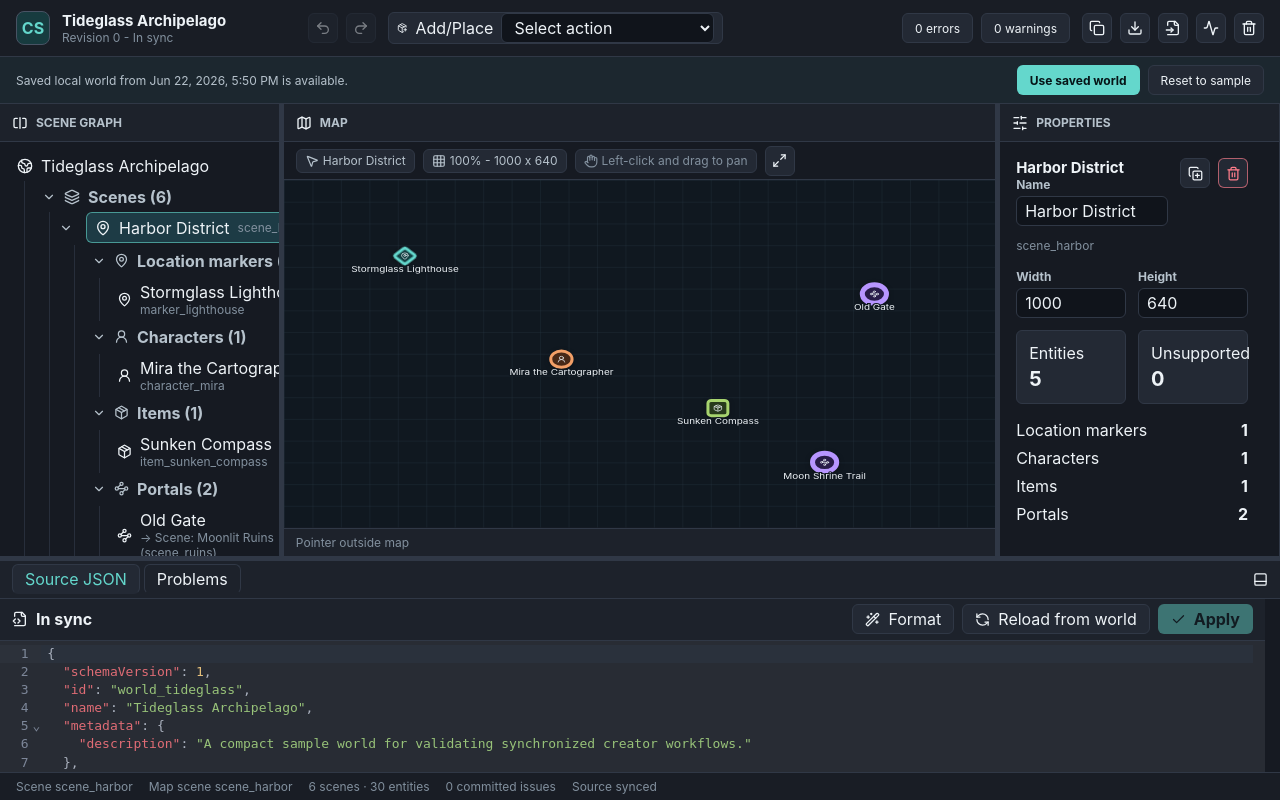
Test: rendered surface equivalence classes › requires confirmation before resetting local recovery data to the sample world
Expected: the text "Saved local world from Jun 22, 2026, 5:50 PM is available." is shown, x1=16 y1=72 x2=348 y2=88
Click the button "Reset to sample".
click(1206, 80)  # box x1=1148 y1=65 x2=1264 y2=95
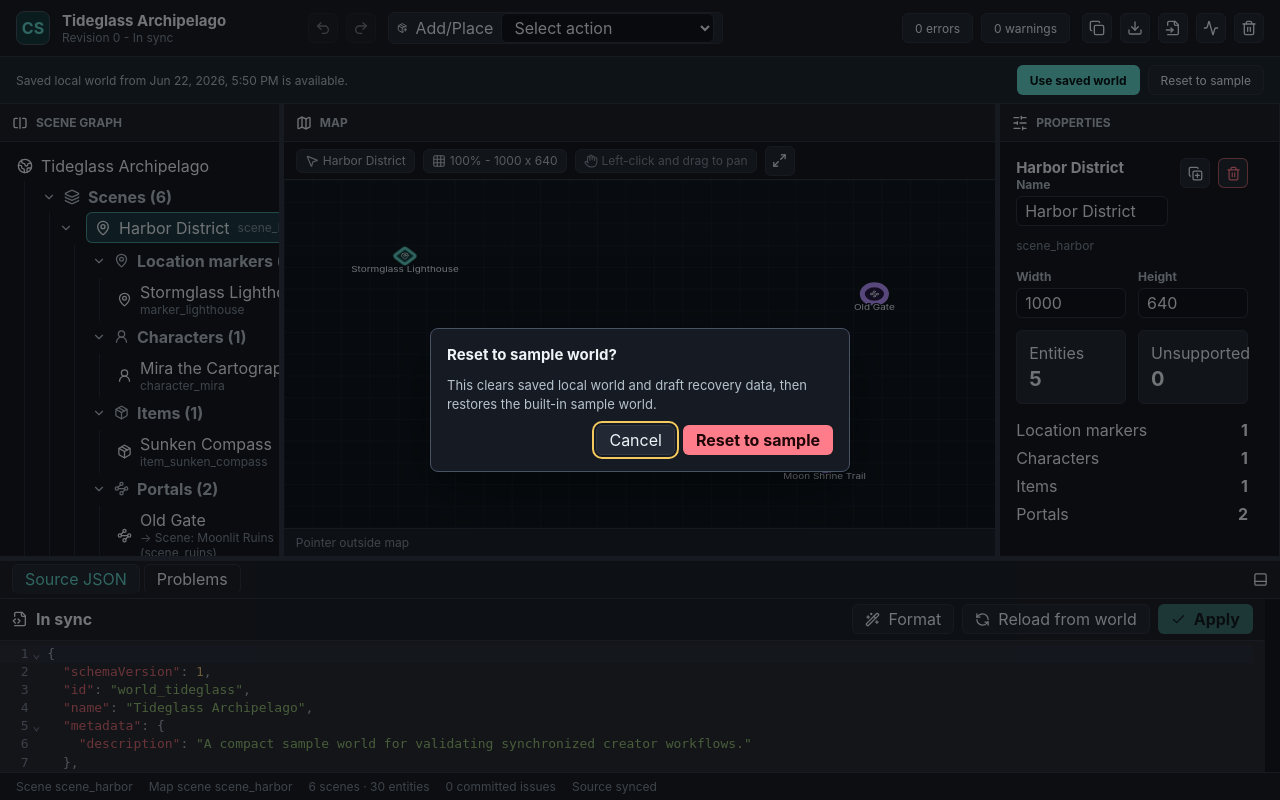
Click the button "Cancel".
click(636, 440)  # box x1=596 y1=425 x2=675 y2=455
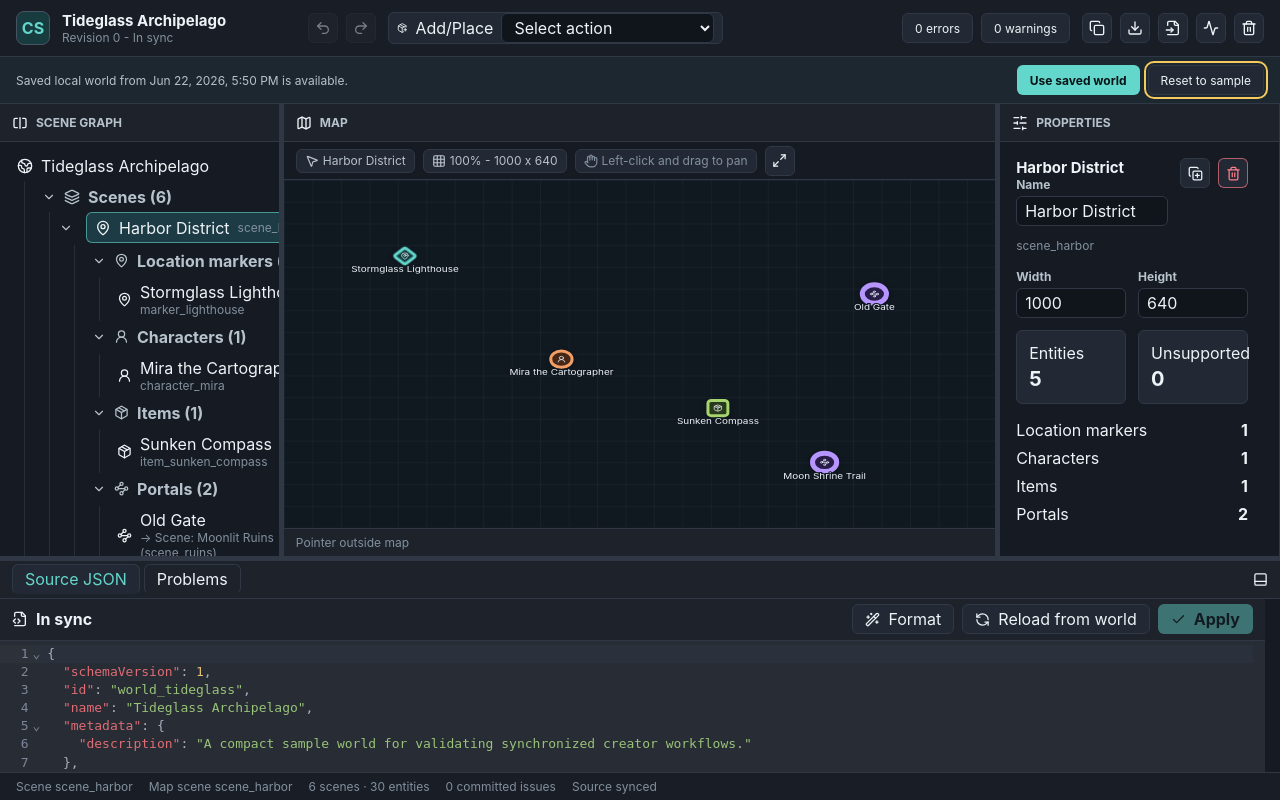
Expected: the text "Saved local world from Jun 22, 2026, 5:50 PM is available." is shown, x1=16 y1=72 x2=348 y2=88
Click the button "Reset to sample".
click(1206, 80)  # box x1=1148 y1=65 x2=1264 y2=95
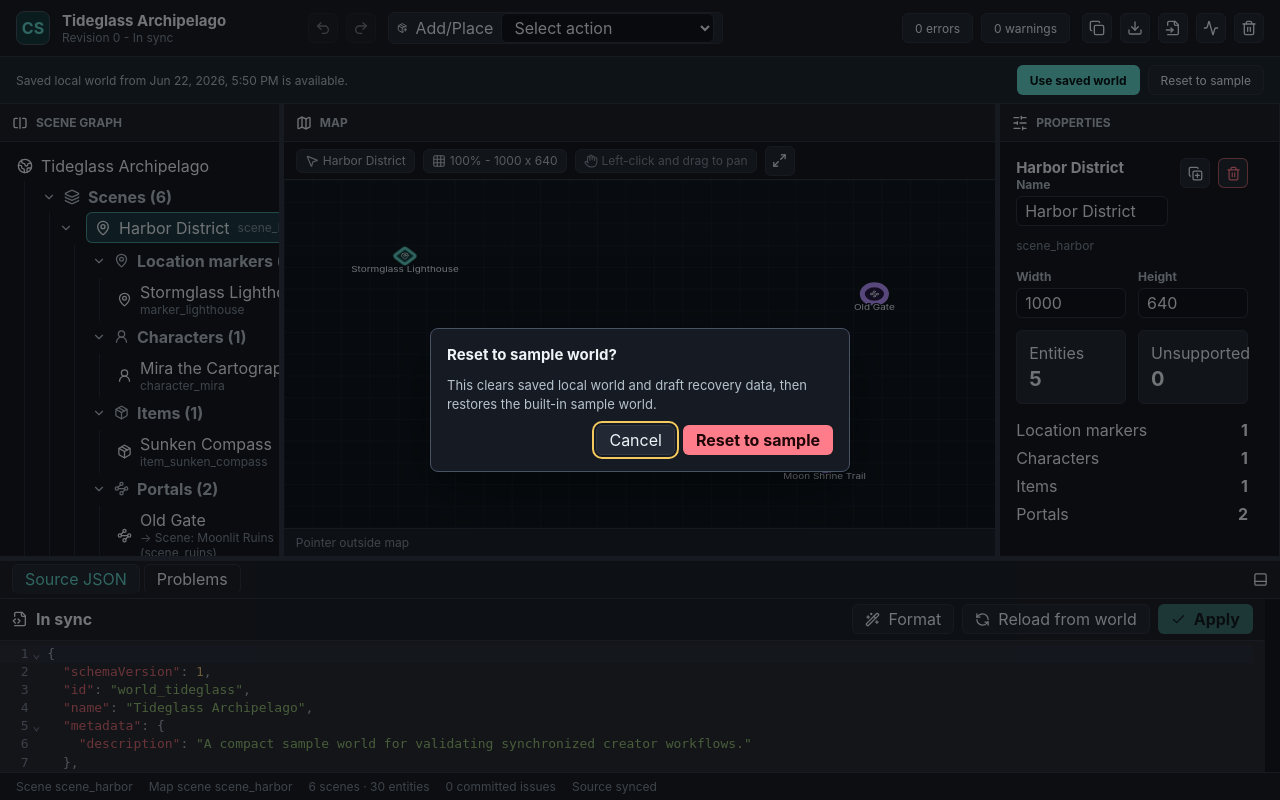
Click the button "Reset to sample".
click(758, 440)  # box x1=683 y1=425 x2=833 y2=455
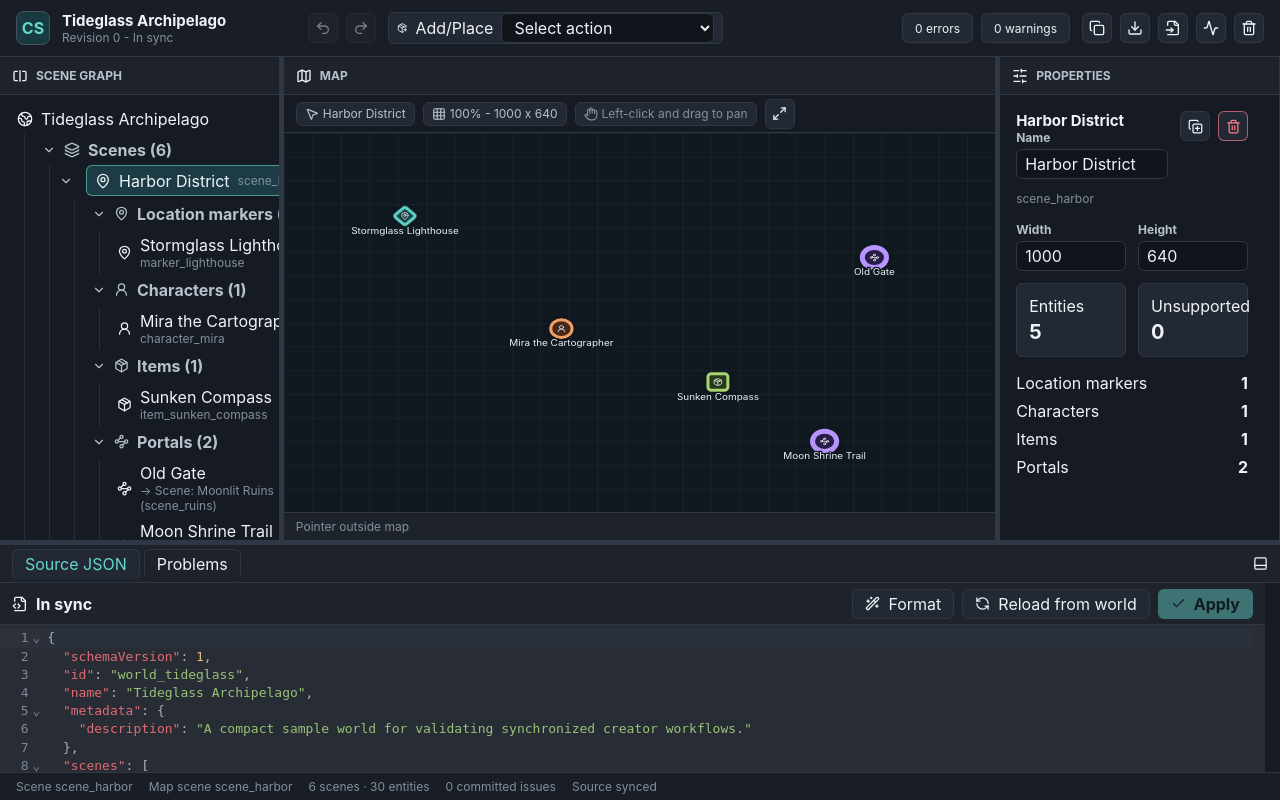
Expected: the heading "Tideglass Archipelago" is shown, x1=62 y1=12 x2=226 y2=30
Expected: the text "Saved local world from" is gone
